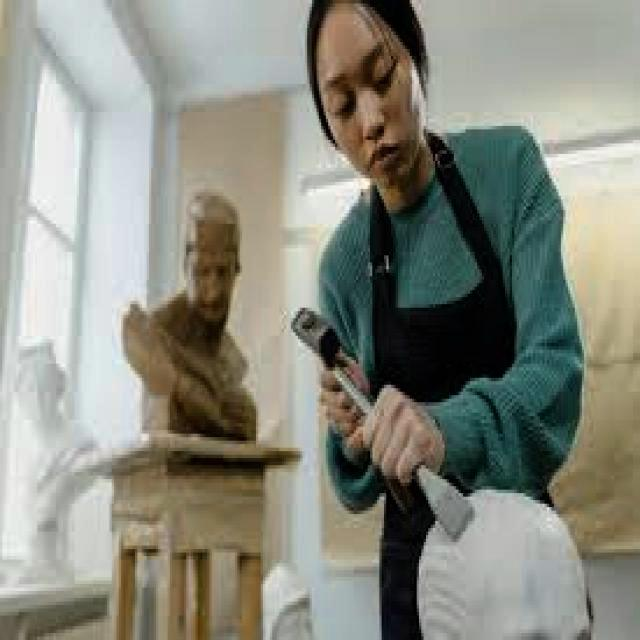hammer: (283, 294, 348, 382)
